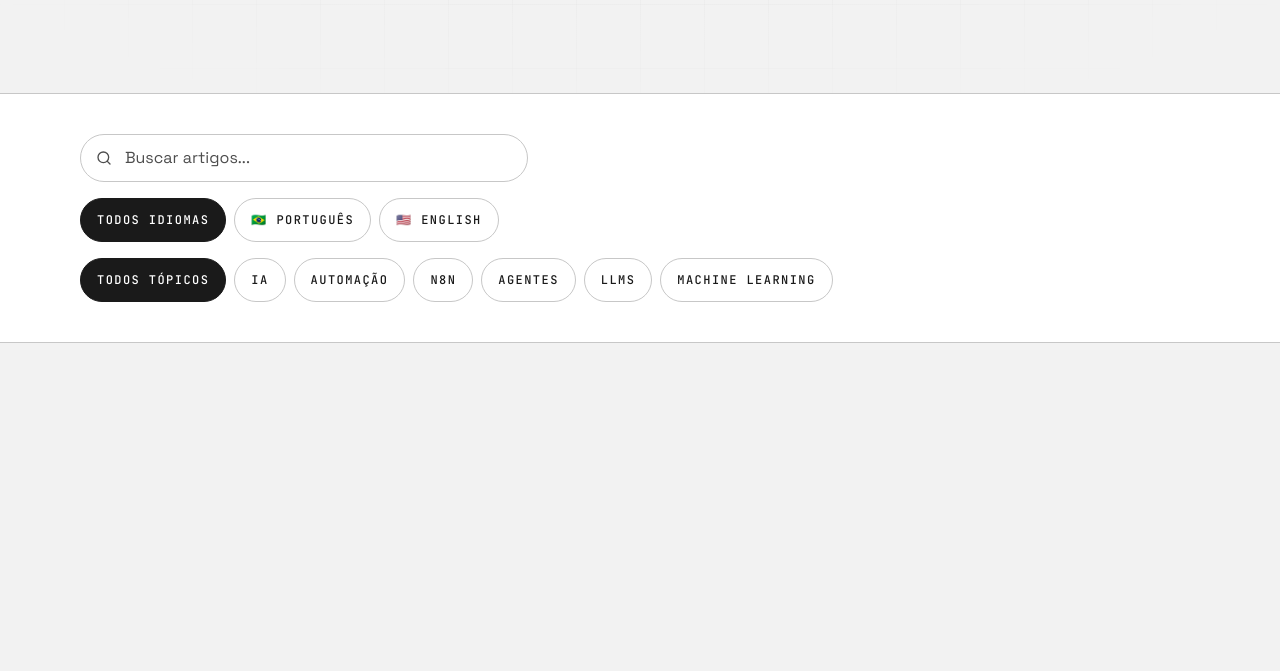
BlogPage keeps the focus and the band of the filters › puts the focus on the search field after Limpar filtros when only a chip filter is on, and goes back to Todos tópicos
(page scrolled)
Click the button "N8N".
click(443, 280)  # box [413,258,473,302]
(page scrolled)
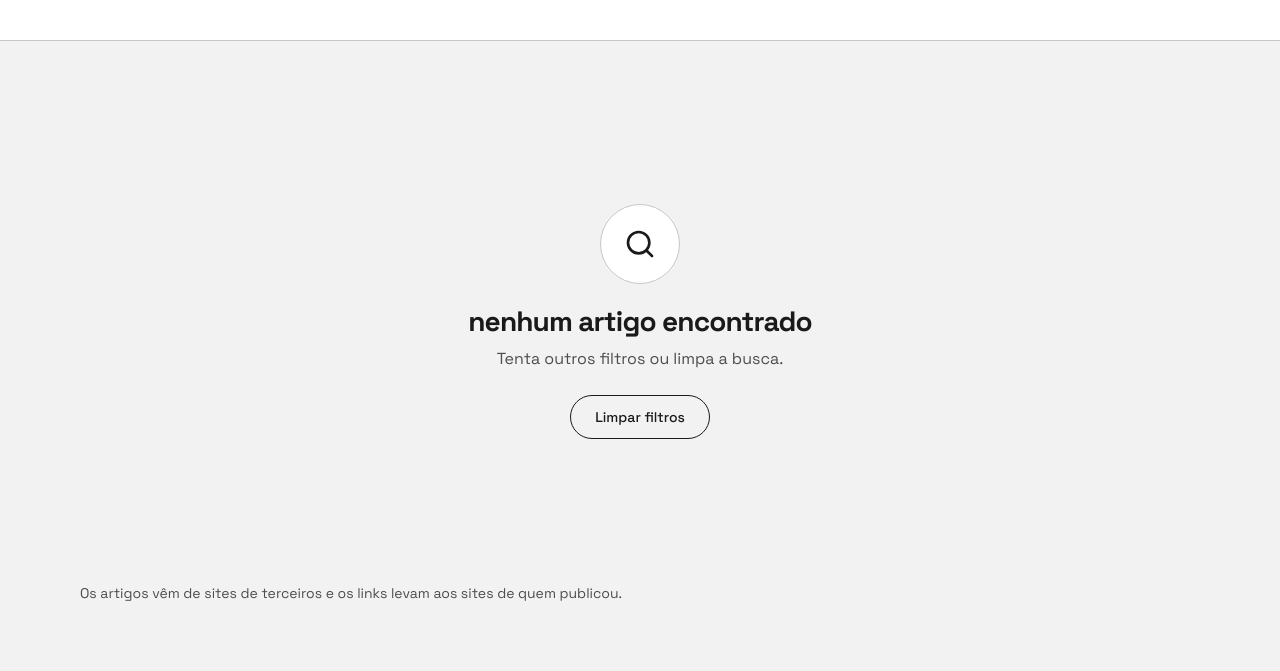
Expected: the text "Tenta outros filtros ou limpa a busca." is shown, [497,347,783,371]
Click the button "Limpar filtros".
click(640, 417)  # box [570,395,710,439]
(page scrolled)
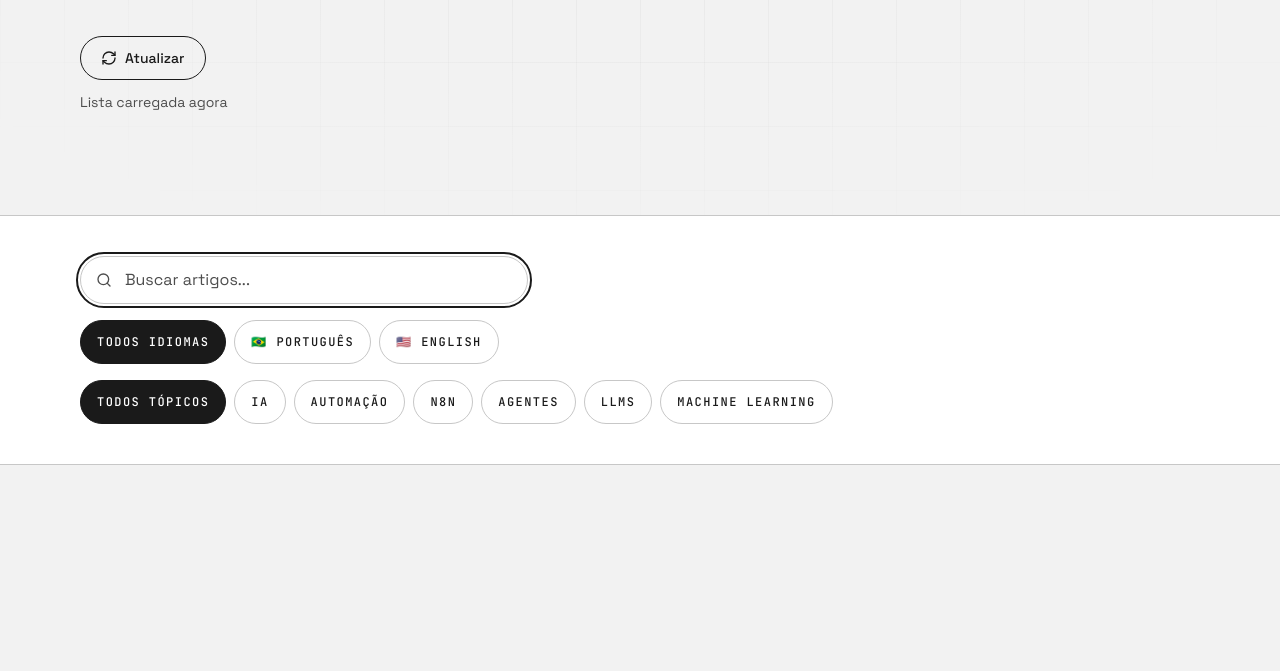
Expected: the button "Todos tópicos" is pressed, [80,380,226,424]
